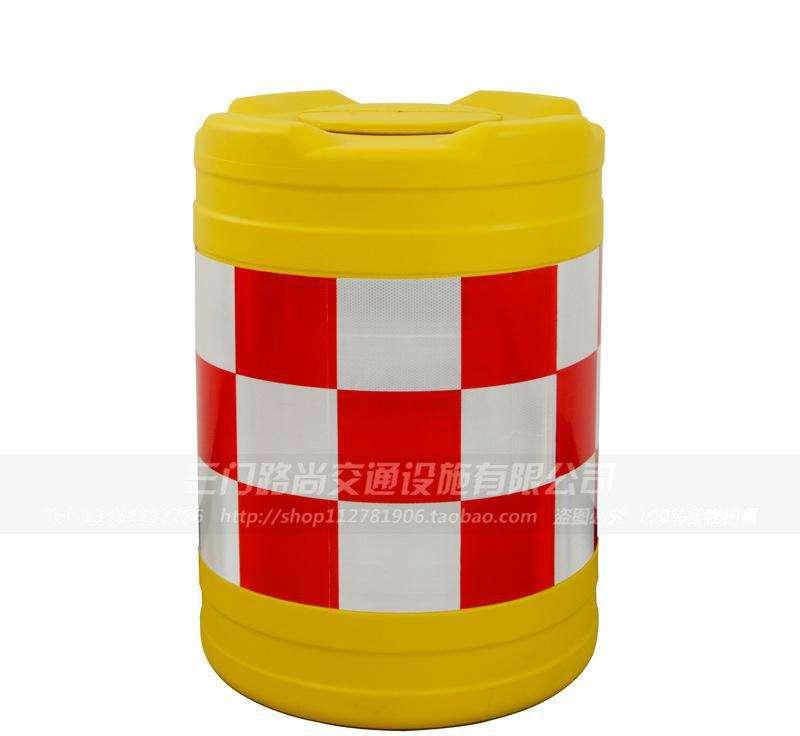sign: (164, 76, 625, 732)
